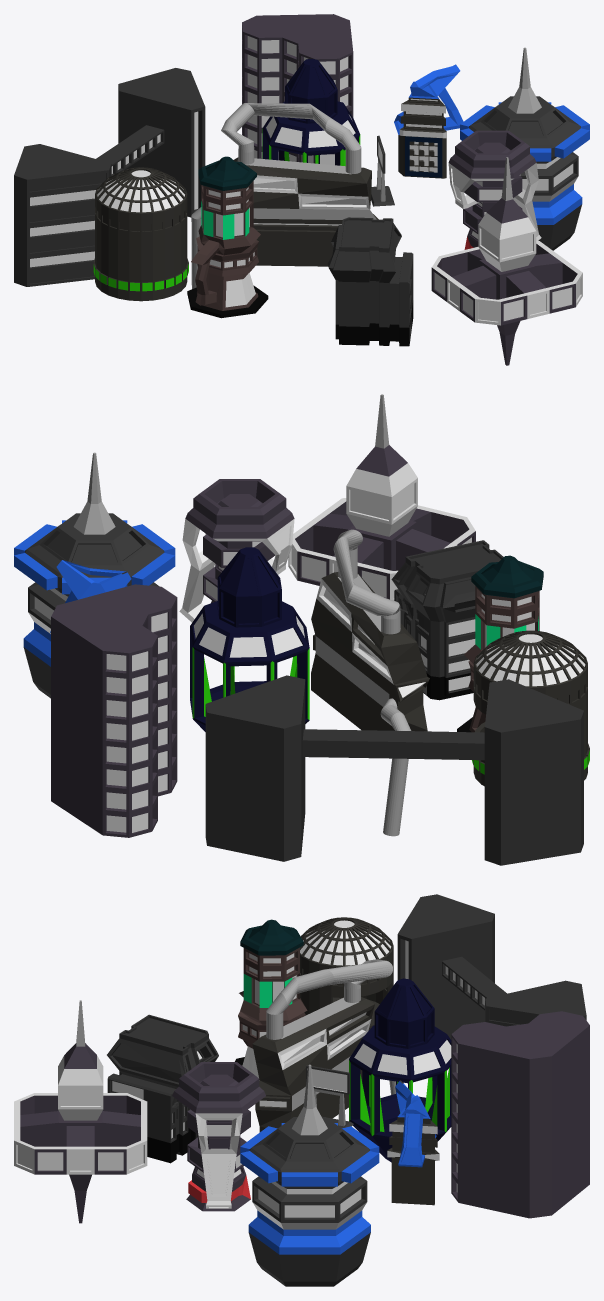
The model's file is track 11_buildings.fbx.
3 renders of one model, top to bottom at view 1: azimuth 30°, elevation 25°; view 2: azimuth 150°, elevation 25°; view 3: azimuth 270°, elevation 25°, orthographic. The views are drawn at different scales.
Visible parts, largest first — view 1: Triangle Twin Towers, pipe thing, Cube.001, Cube.002, Cube, House, Block of flats, Cylinder, Evil House, Rotating builfing, Cheesegrater, Billboard; view 2: Triangle Twin Towers, Block of flats, pipe thing, Cube.001, Rotating builfing, Cylinder, Cube, Evil House, Cube.002, House, Cheesegrater; view 3: Block of flats, Cylinder, Triangle Twin Towers, Cube.001, pipe thing, Rotating builfing, Evil House, Cube, House, Cube.002, Cheesegrater, Billboard.
Part boxes in pixels (x1,y1,x2,y2): Triangle Twin Towers: (14,68,205,286); pipe thing: (191,103,378,288); Cube.001: (431,157,582,365); Cube.002: (93,167,188,301); Cube: (327,217,413,346); House: (187,156,268,318); Block of flats: (242,14,353,165); Cylinder: (460,47,589,250); Evil House: (448,130,541,249); Rotating builfing: (262,59,360,166); Cheesegrater: (394,64,463,178); Billboard: (371,135,394,206); Triangle Twin Towers: (205,675,583,865); Block of flats: (51,584,177,837); pipe thing: (311,529,429,836); Cube.001: (288,394,475,600); Rotating builfing: (190,547,309,731); Cylinder: (14,452,175,698); Cube: (391,540,503,700); Evil House: (179,479,294,622); Cube.002: (472,630,589,786); House: (457,555,543,732); Cheesegrater: (50,560,131,632); Block of flats: (451,1011,589,1218); Cylinder: (240,1064,379,1286); Triangle Twin Towers: (397,894,586,1039); Cube.001: (14,1000,147,1223); pipe thing: (252,959,403,1132); Rotating builfing: (349,978,451,1162); Evil House: (172,1062,265,1211); Cube: (107,1014,218,1163); House: (235,919,307,1077); Cube.002: (300,917,393,1030); Cheesegrater: (387,1080,439,1205); Billboard: (306,1065,353,1128).
Bounding box in the file's own units: 130573 × 51597 × 120938.
